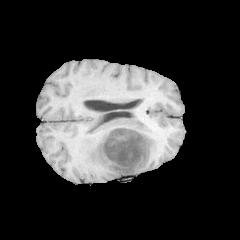glioma: (79, 114, 161, 179)
